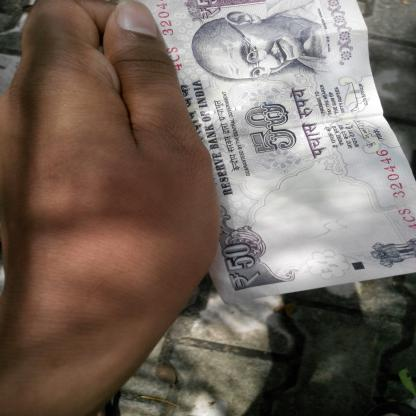Old50Front: (118, 0, 416, 304)
